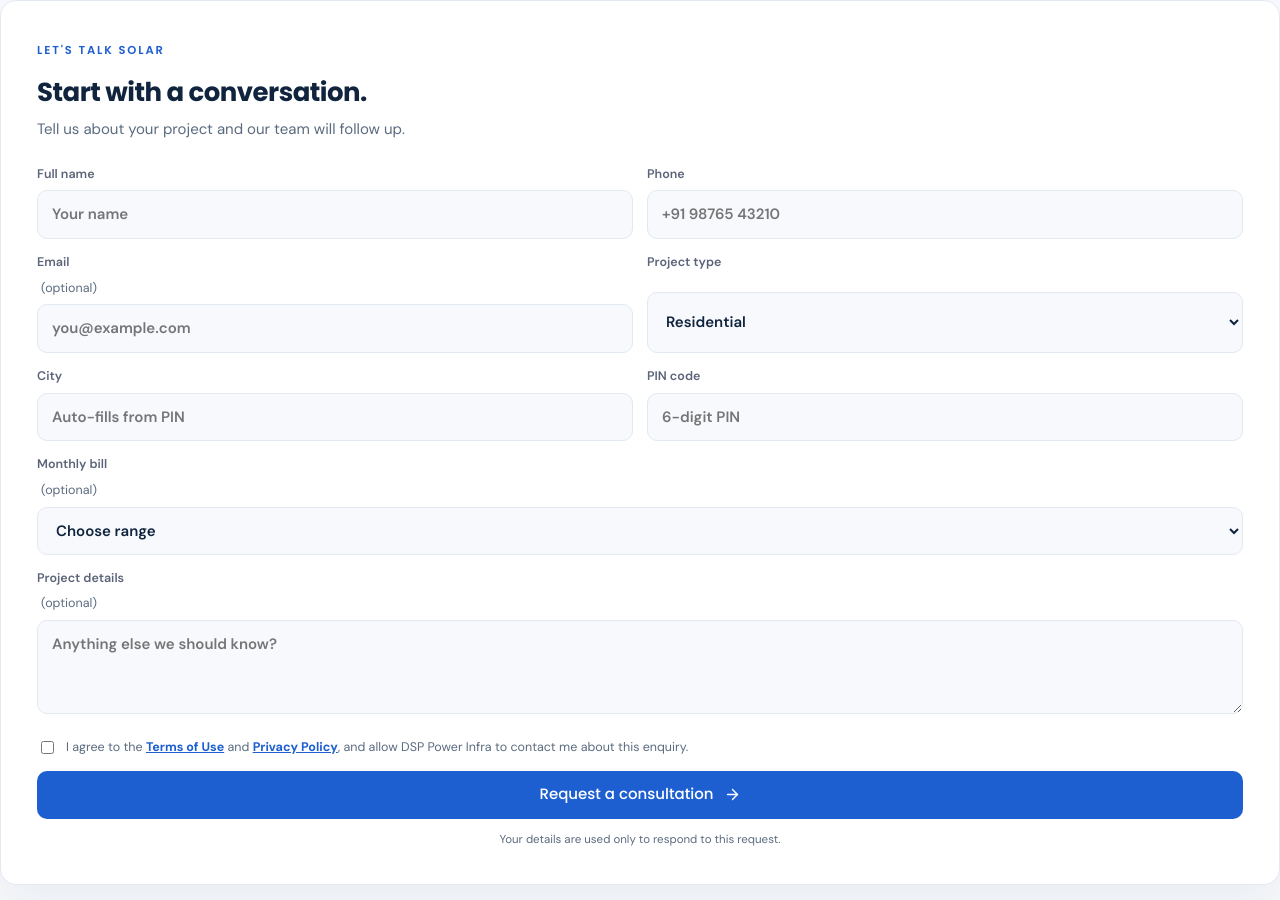
LeadForm › TC-FORM-11: a serviceable PIN autofills the city
Type "411046" into the field labelled "PIN code" at (945, 417), box [647,392,1243,441]
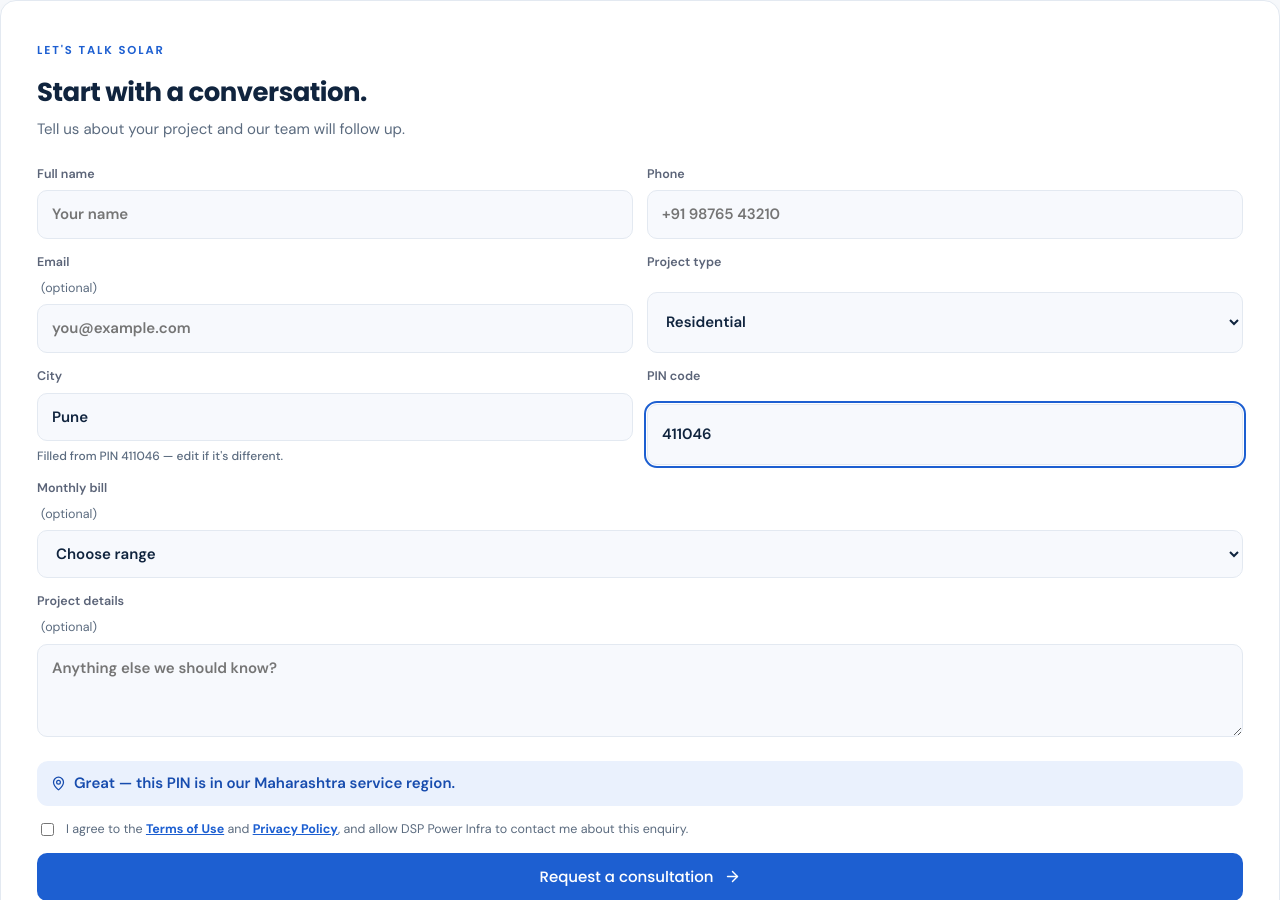
Expected: the field labelled "City Filled from PIN 411046 — edit if it's different." holds "Pune", [37,392,633,441]
